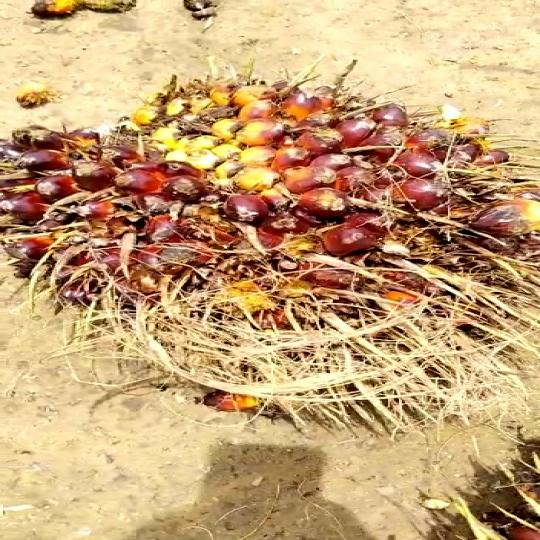masak: (0, 58, 540, 437)
